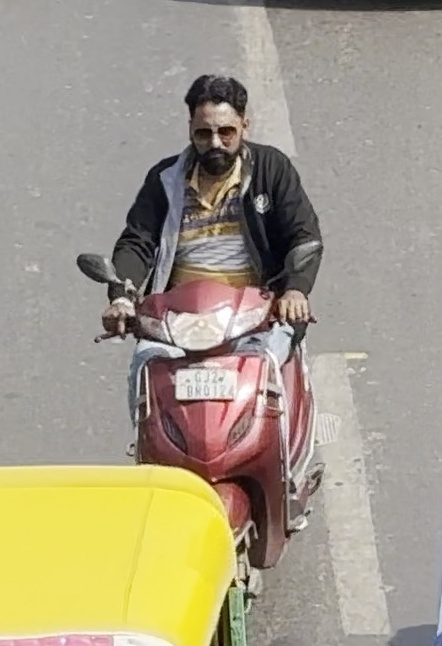BikeWithRider: (69, 65, 344, 644)
NoHelmet: (172, 68, 261, 175)
